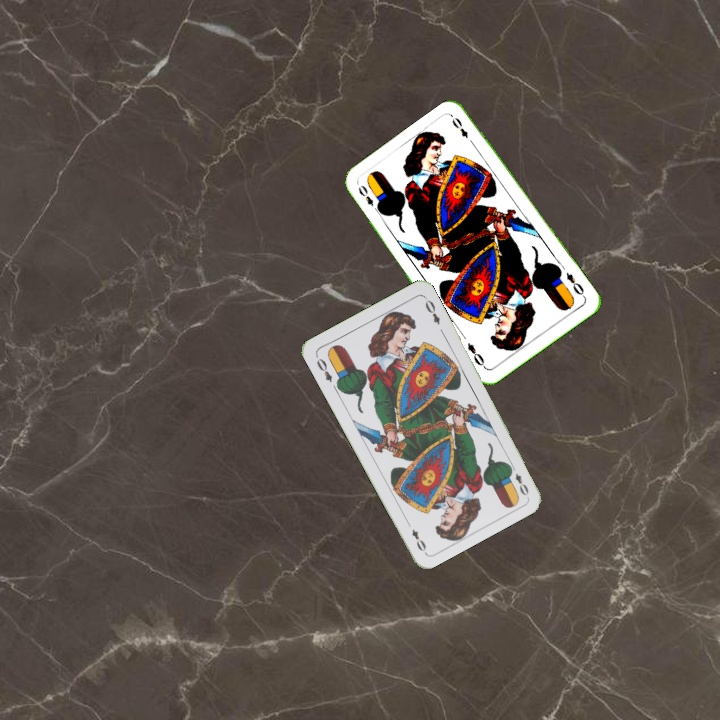EO: (354, 181, 383, 216), (506, 460, 531, 498), (562, 268, 588, 300), (312, 354, 335, 385)
